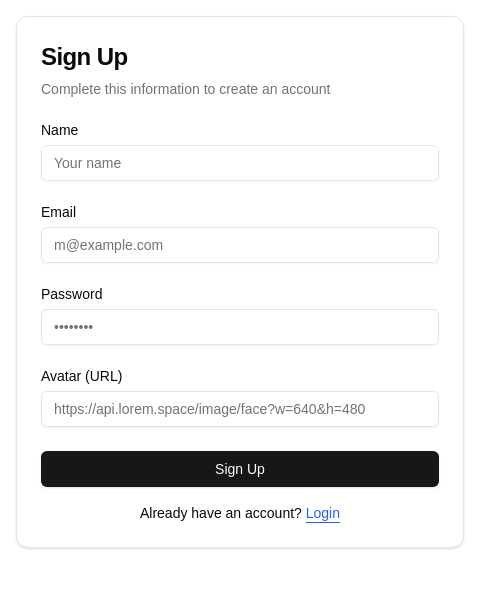
Scenario: SignupForm › shows error if signup fails
The width and height of the screenshot is (481, 610).
Type "John Doe" into the field with placeholder "Your name" at [240, 163], box [41, 145, 439, 181]
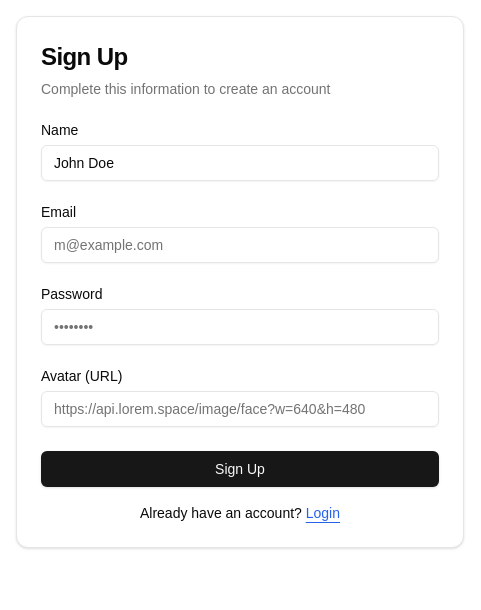
Type "test@example.com" into the field with placeholder "m@example.com" at [240, 245], box [41, 227, 439, 263]
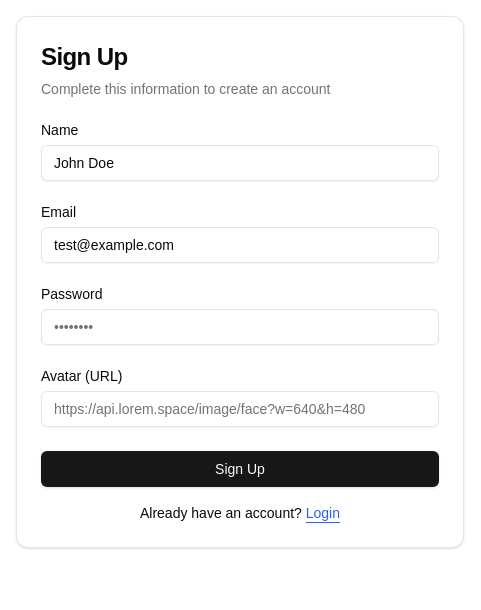
Type "password" into the password field with placeholder "••••••••" at [240, 327], box [41, 309, 439, 345]
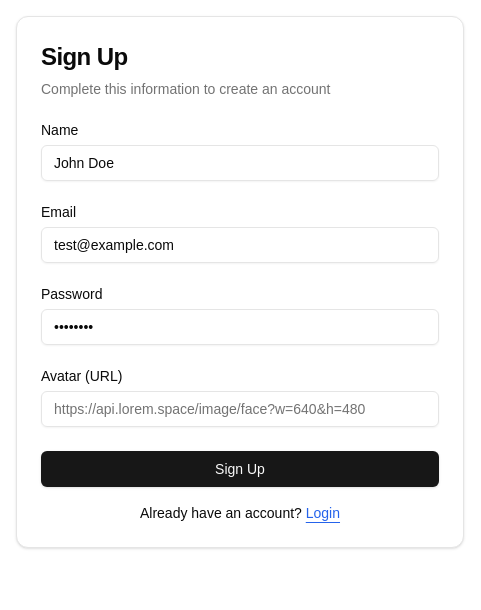
Type "https://example.com/avatar.jpg" into the field with placeholder "https://api.lorem.space/image/face?w=640&h=480" at [240, 409], box [41, 391, 439, 427]
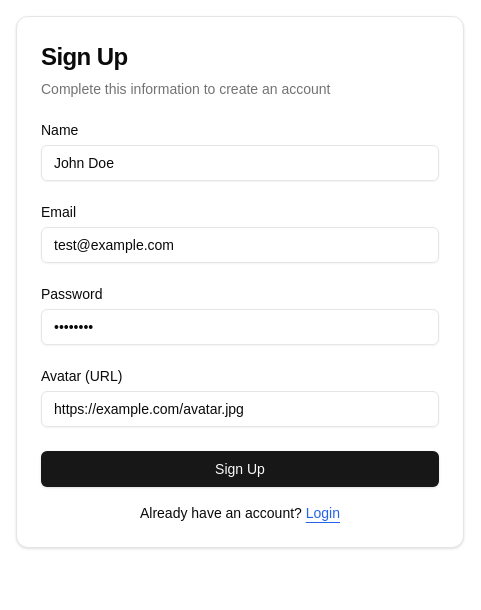
Submit the form from the button "Sign Up", box [41, 451, 439, 487]
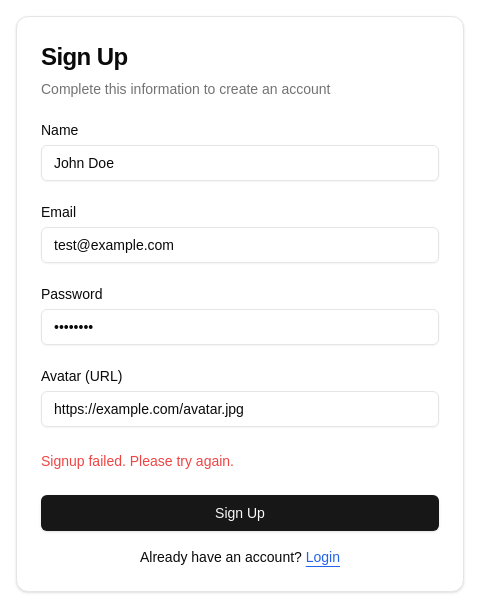
Check: the text "Signup failed. Please try again." is shown, box [41, 453, 234, 469]
